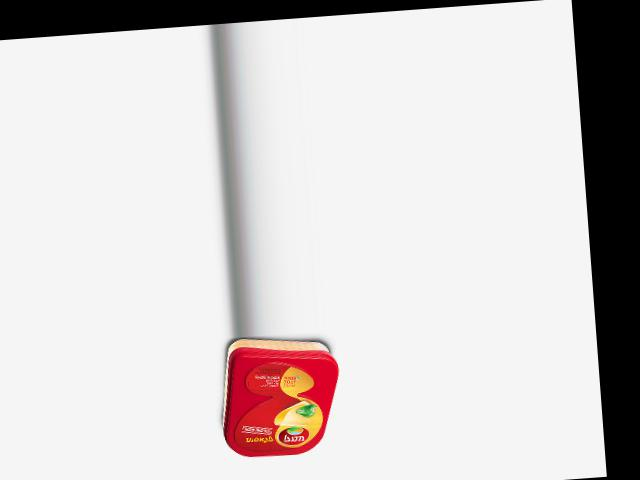cheese: (216, 332, 344, 460)
